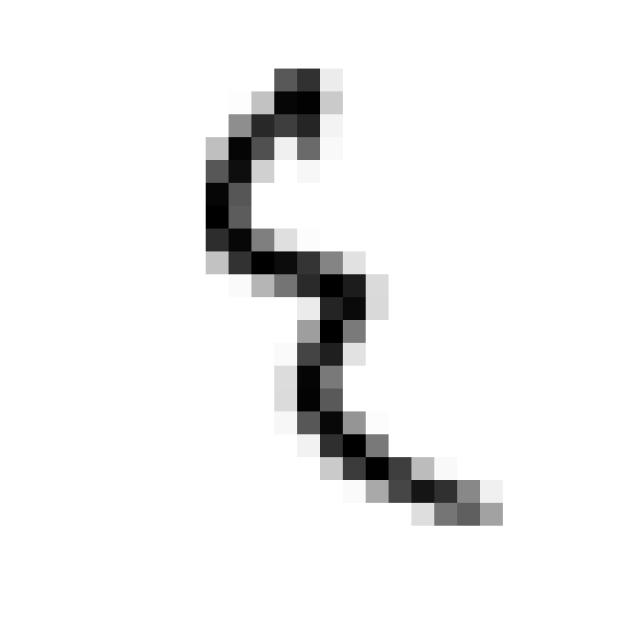4 -four-: (181, 53, 521, 553)
